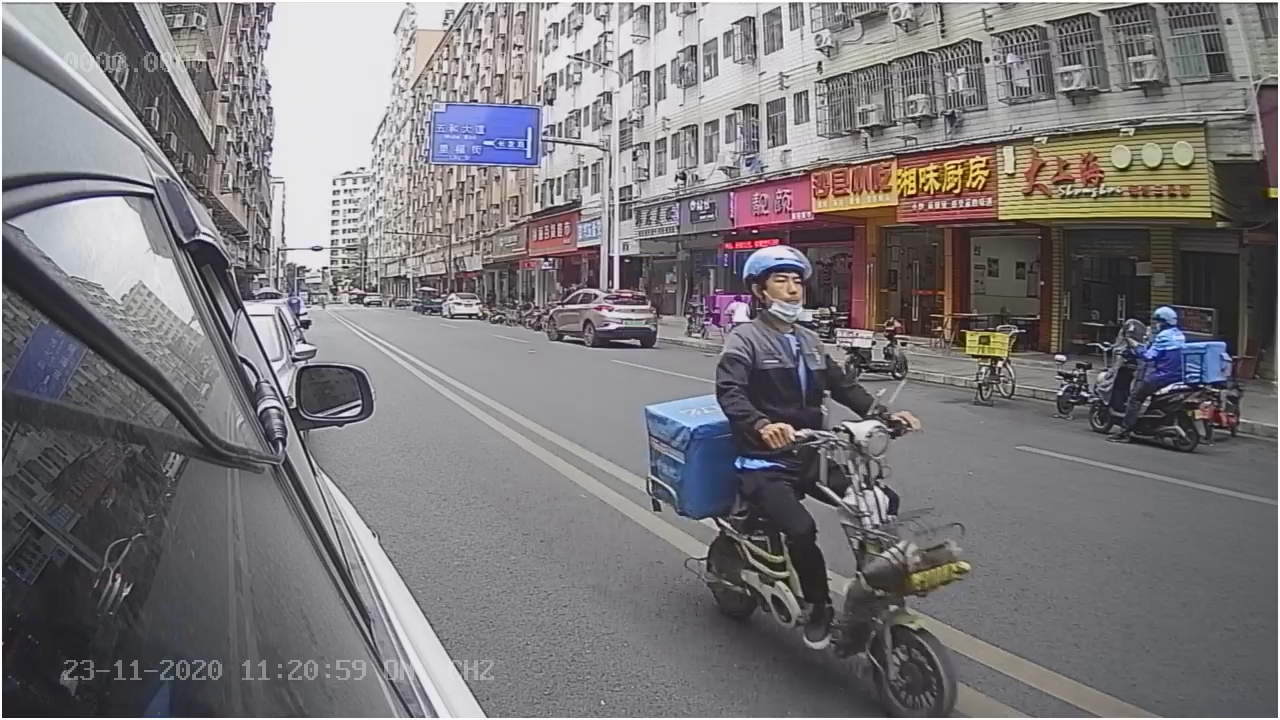person: (712, 242, 891, 413)
